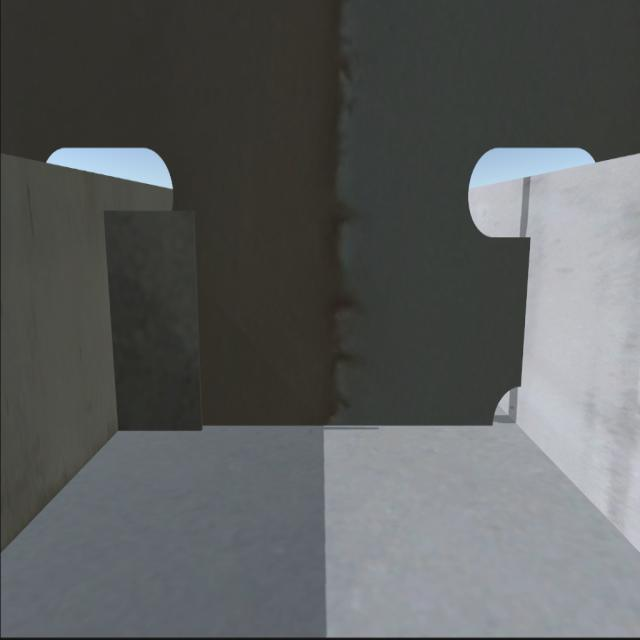fillet_hole: (483, 383, 521, 427)
fillet_yong_jeop_jang: (116, 423, 493, 428)
longi_yong_jeop_jang: (99, 211, 125, 430), (515, 238, 541, 382)
plate_CP01: (105, 218, 199, 423)
